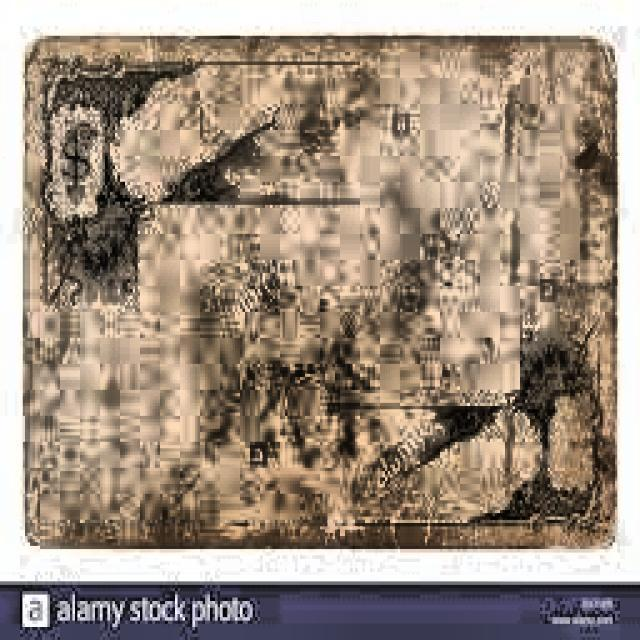cardboard: (20, 32, 618, 550)
